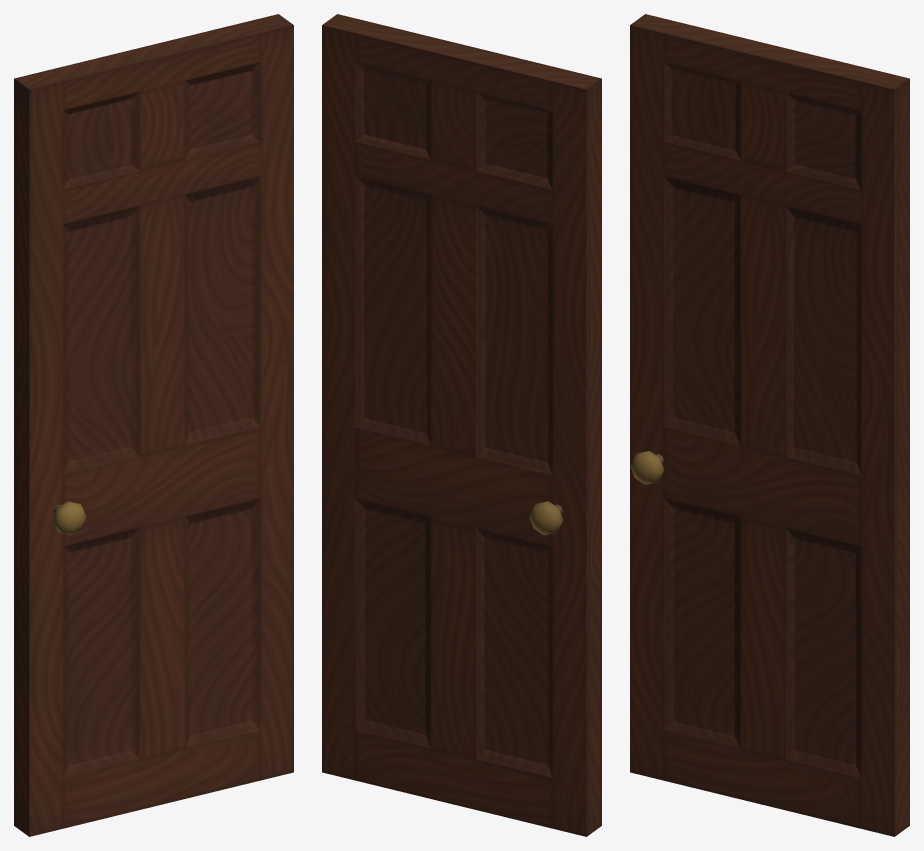
The model's file is FoyerDrDoor.fbx.
3 renders of one model, left to right at view 1: azimuth 30°, elevation 25°; view 2: azimuth 150°, elevation 25°; view 3: azimuth 330°, elevation 25°, orthographic.
Visible parts, largest first — view 1: door; view 2: door; view 3: door.
Boxes of the visible parts, x1=… form: door: x1=14, y1=14, x2=293, y2=836; door: x1=322, y1=14, x2=601, y2=836; door: x1=630, y1=14, x2=909, y2=836.
Size of the model in its own units: 29.99 by 80.91 by 9.72.
